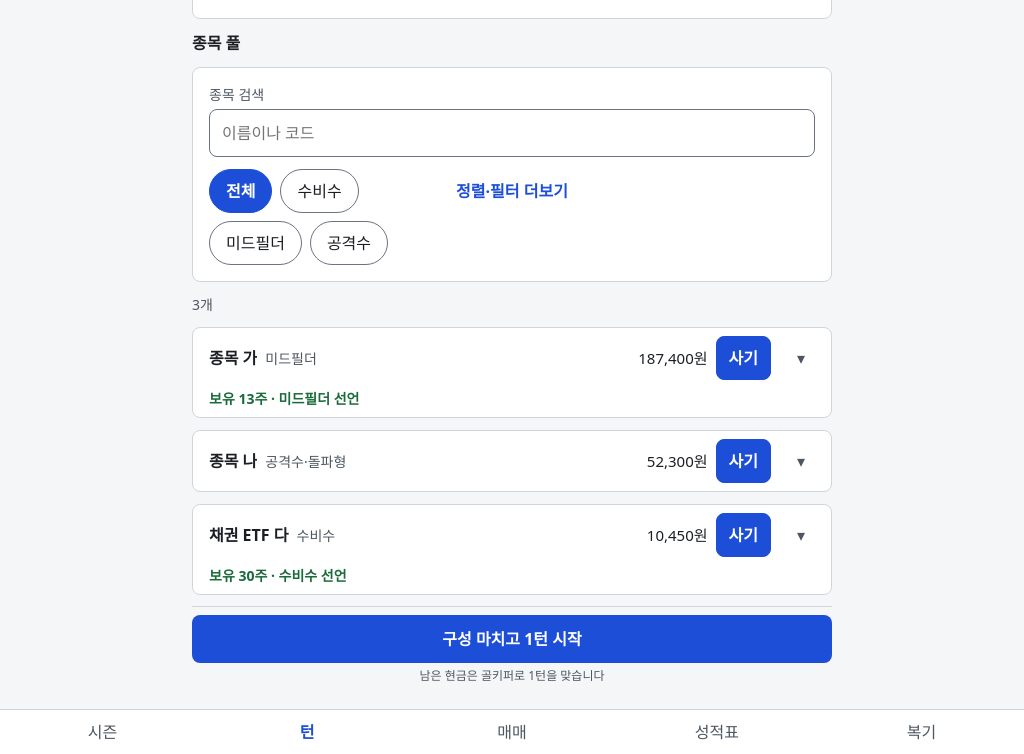
it: OrderSheet › stays open under StrictMode
(page scrolled)
Click the button with aria-label "종목 가 사기".
click(743, 358)  # box x1=716 y1=336 x2=771 y2=380
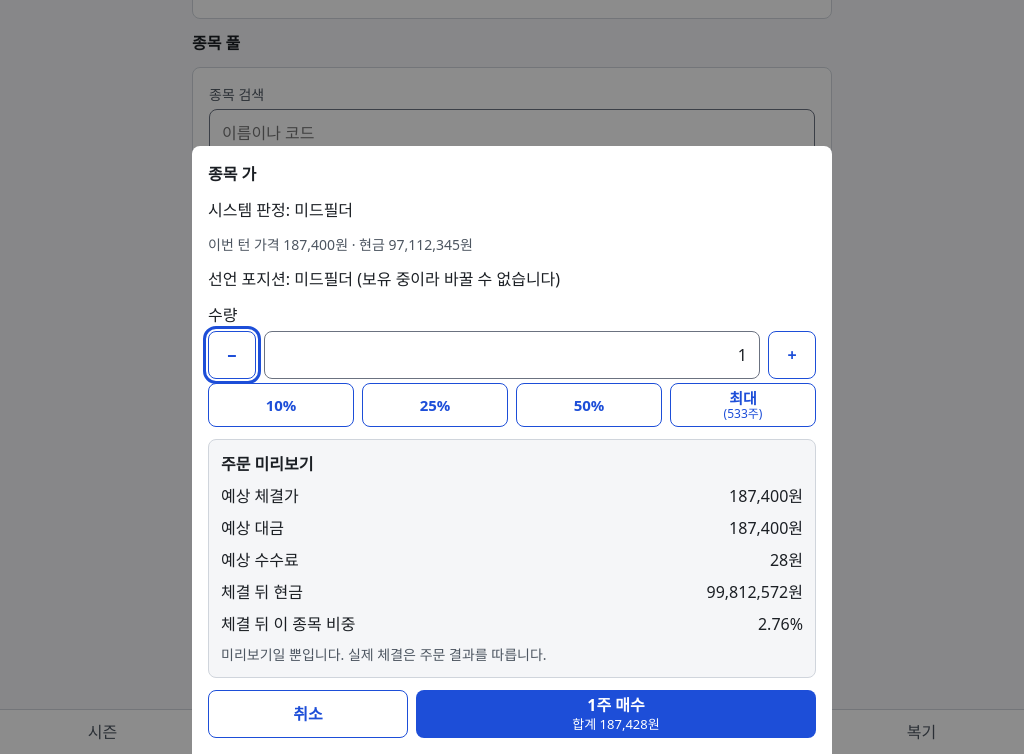
Result: the dialog "종목 가" is shown at x1=192 y1=146 x2=832 y2=753
